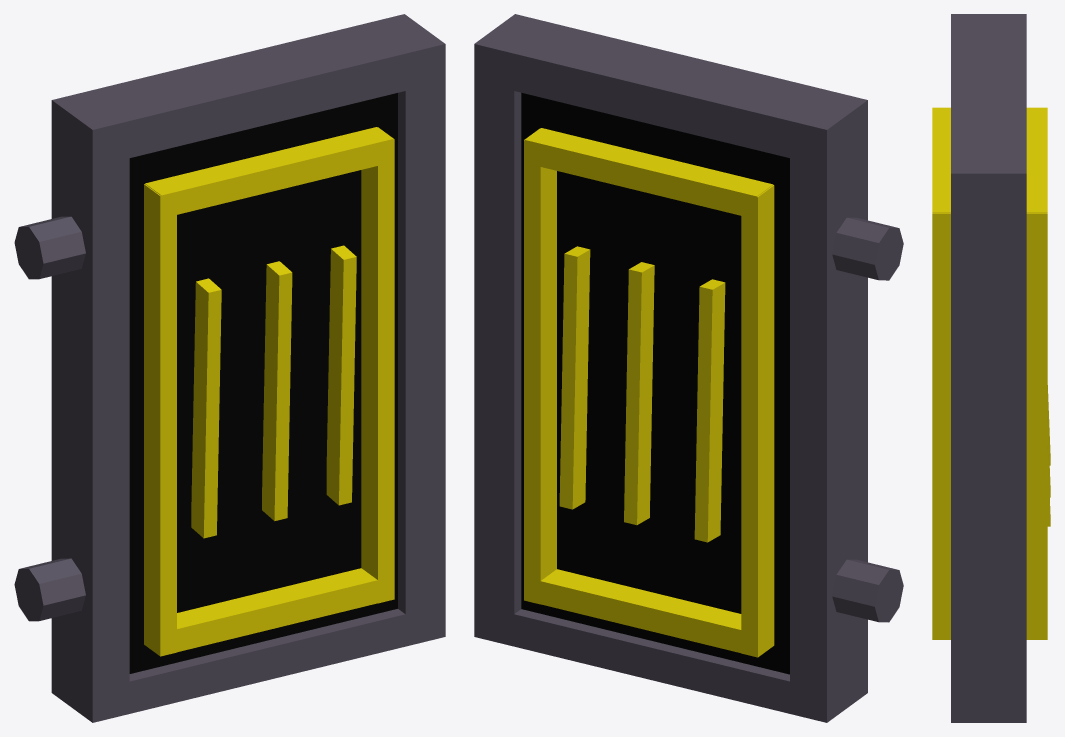
File: Neon_Lines_rectangle.fbx
3 views of the same model, side by side, from view 1: azimuth 30°, elevation 25°; view 2: azimuth 150°, elevation 25°; view 3: azimuth 270°, elevation 25° (orthographic). The views are drawn at different scales.
Parts seen in each view (by area): view 1: NeonSign_Rectangle6, Neon_Lines_rectangle; view 2: NeonSign_Rectangle6, Neon_Lines_rectangle; view 3: NeonSign_Rectangle6, Neon_Lines_rectangle.
Part boxes in pixels (<box>): NeonSign_Rectangle6: <box>14,14,445,722</box>; Neon_Lines_rectangle: <box>144,127,394,656</box>; NeonSign_Rectangle6: <box>474,14,903,722</box>; Neon_Lines_rectangle: <box>524,128,774,657</box>; NeonSign_Rectangle6: <box>951,14,1026,722</box>; Neon_Lines_rectangle: <box>932,107,1050,639</box>.
Size of the model in its own units: 1.12 by 1.61 by 0.3139.
